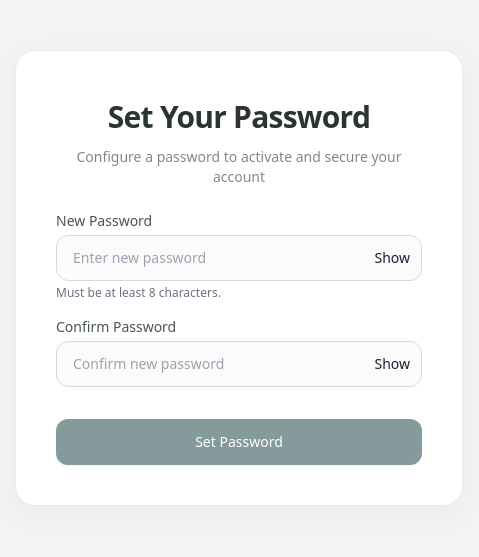
ResetPasswordConfirmPage › shows error when password is too short
Type "short" into the password field labelled "New Password" at {"x": 239, "y": 258}, box [56,235,422,281]
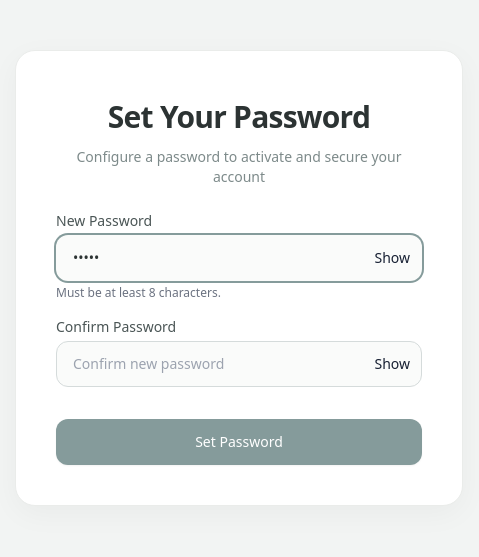
Type "short" into the password field labelled "Confirm Password" at {"x": 239, "y": 364}, box [56,341,422,387]
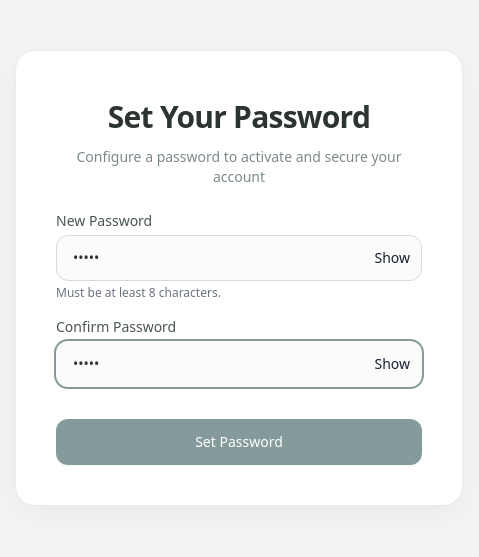
Click the button "Set Password" at {"x": 239, "y": 442}, box [56,419,422,465]
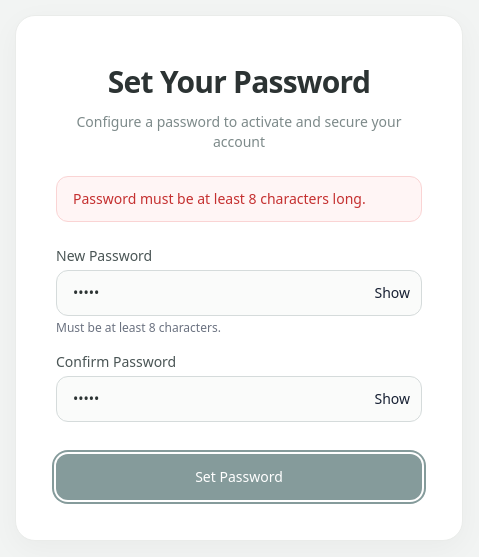
Now the text "Password must be at least 8 characters long." is shown, box [56,176,422,222]
